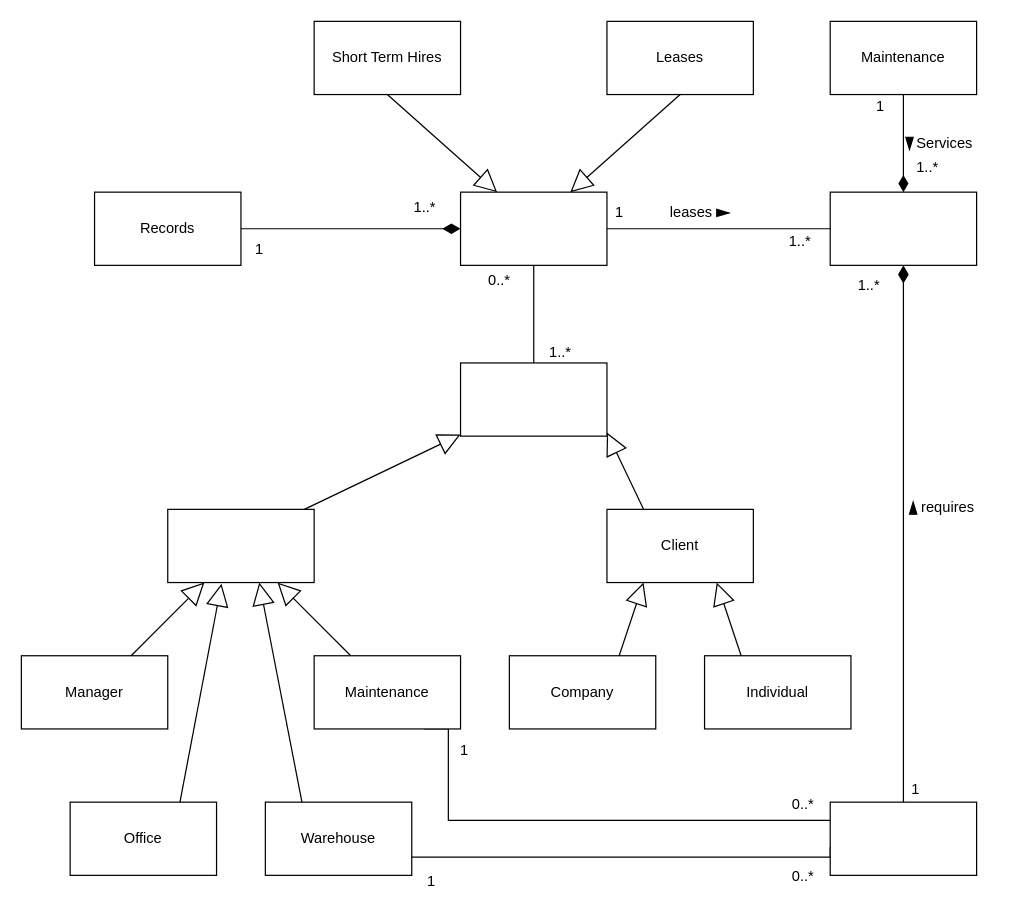
Image size: 1014x915. Some labels were removed from this diagram. Here are the shapes that lost their labels. From the top down, the centre of each, then its label:
the point at 533,228: Transactions
the point at 903,228: Equipment
the point at 533,399: Person
the point at 240,545: Staff
the point at 903,838: Work orders
